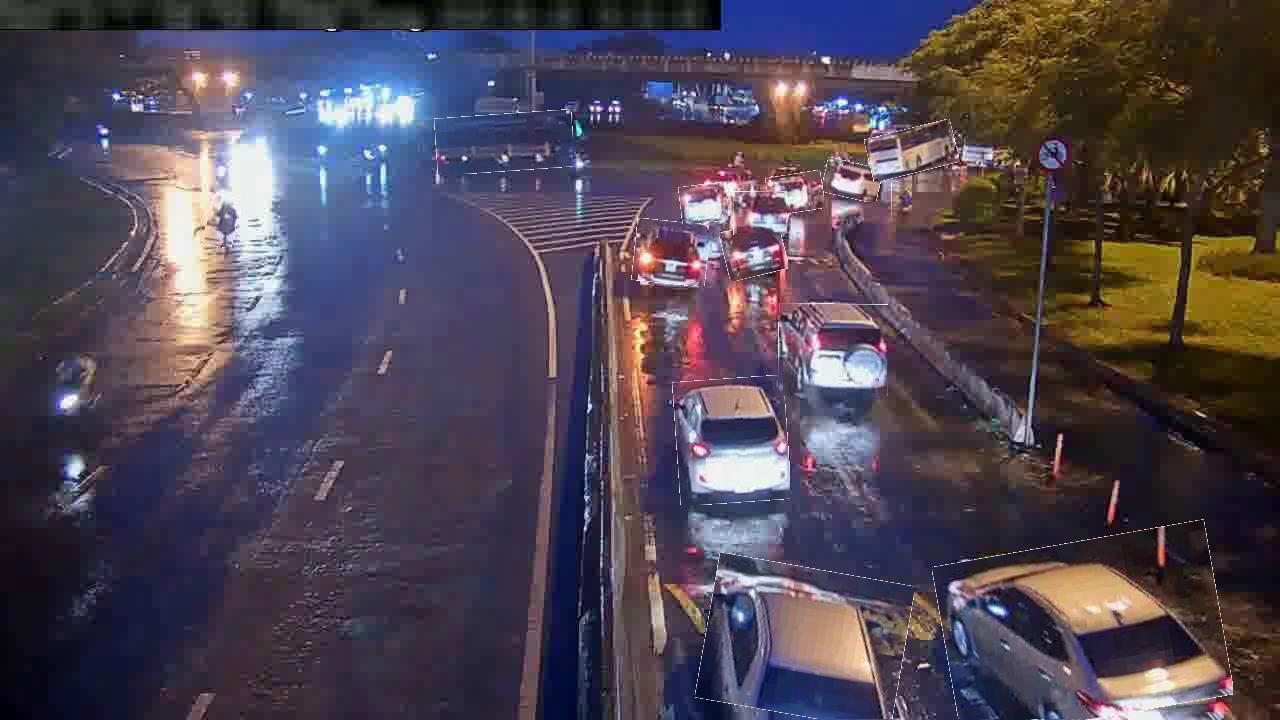14: (866, 124, 958, 178)
8: (435, 112, 574, 173)
container: (938, 530, 1228, 719), (700, 560, 910, 719), (674, 377, 789, 505), (779, 304, 889, 397), (633, 220, 709, 286), (722, 223, 786, 279), (733, 191, 788, 236), (823, 160, 882, 201), (767, 172, 824, 214), (679, 184, 728, 224)
motorbike: (206, 196, 240, 248), (891, 182, 910, 222)
